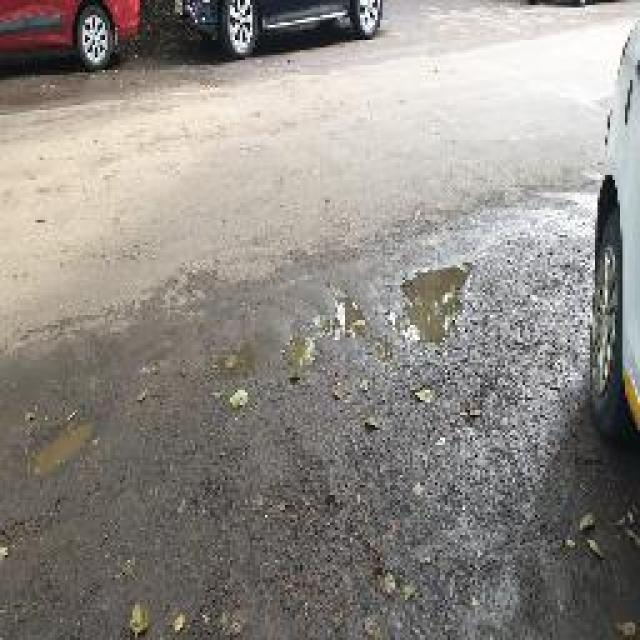puddle: (401, 264, 469, 360)
